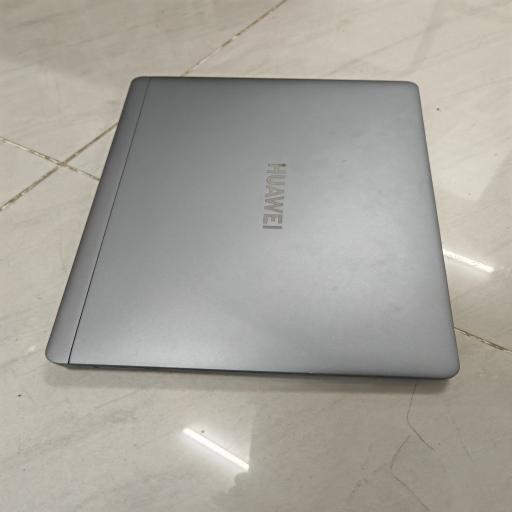laptop: (46, 77, 459, 378)
